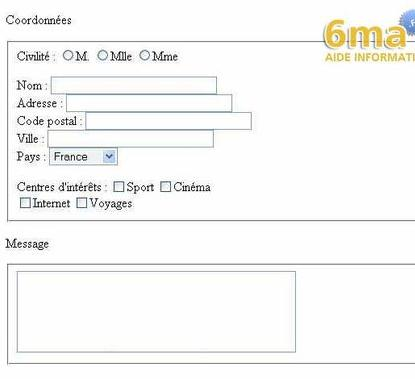checkbox: (111, 180, 127, 193), (75, 196, 89, 210), (19, 196, 34, 209), (160, 180, 173, 193)
checkbox_with_label: (75, 194, 133, 211), (159, 178, 211, 195), (18, 194, 70, 211), (109, 178, 155, 194)
field: (14, 270, 298, 355), (82, 109, 253, 130), (49, 75, 218, 96), (61, 93, 234, 113), (45, 128, 214, 148), (47, 147, 119, 166)
field_with_label: (18, 108, 254, 131), (18, 92, 236, 114), (17, 74, 221, 97), (17, 127, 215, 149), (17, 147, 121, 167)
radio: (62, 49, 75, 62), (139, 49, 151, 62), (98, 49, 110, 61)
radio_with_label: (137, 47, 178, 63), (96, 46, 132, 63), (60, 47, 90, 63)
